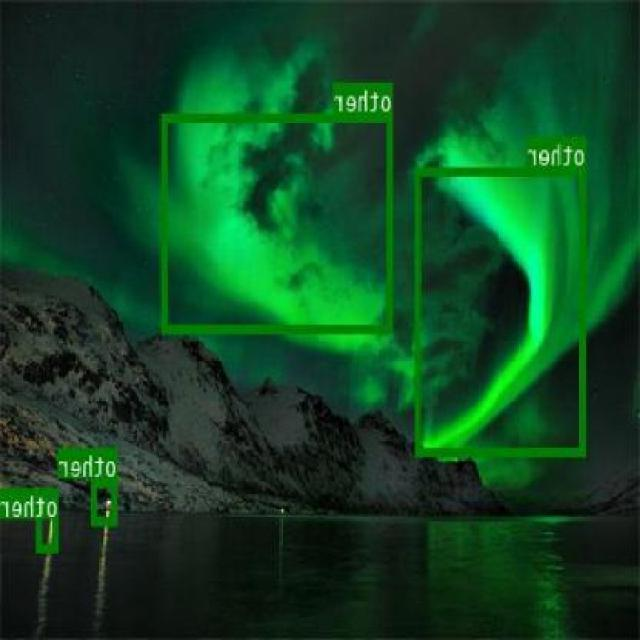other: (163, 112, 394, 332), (416, 166, 587, 454), (37, 488, 60, 552), (93, 478, 119, 524)
